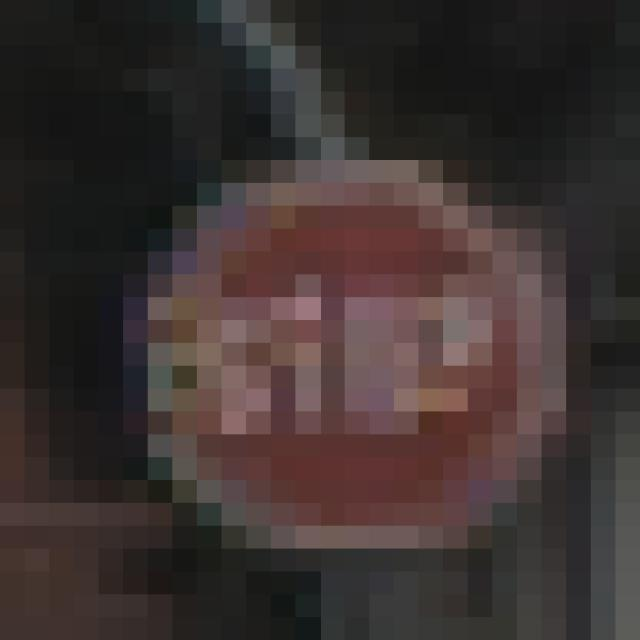STOP: (124, 138, 518, 504)
